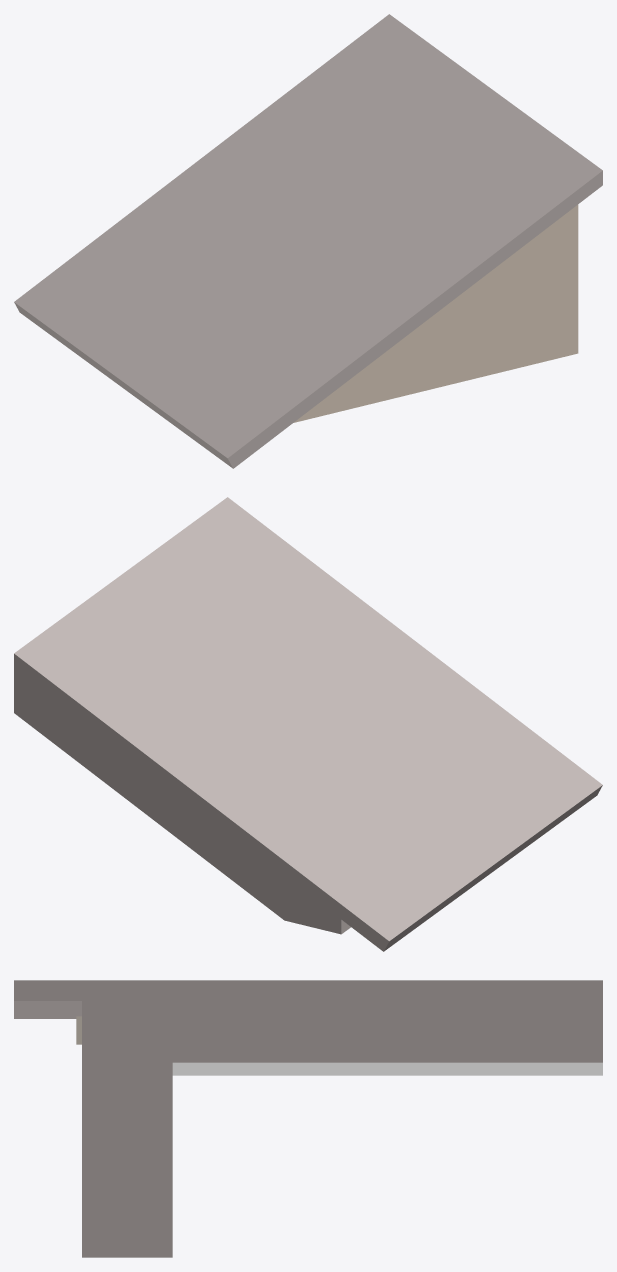
Rendered from Structure_Roof_Edge_Eave.fbx.
3 views of the same model, one above another, from view 1: azimuth 30°, elevation 25°; view 2: azimuth 150°, elevation 25°; view 3: azimuth 270°, elevation 25° (orthographic). The views are drawn at different scales.
Parts seen in each view (by area): view 1: object1.097; view 2: object1.097; view 3: object1.097.
Boxes of the visible parts, <box> form: object1.097: <box>14,14,602,468</box>; object1.097: <box>14,497,602,951</box>; object1.097: <box>14,980,602,1257</box>.
Size of the model in its own units: 132 by 69.91 by 130.
